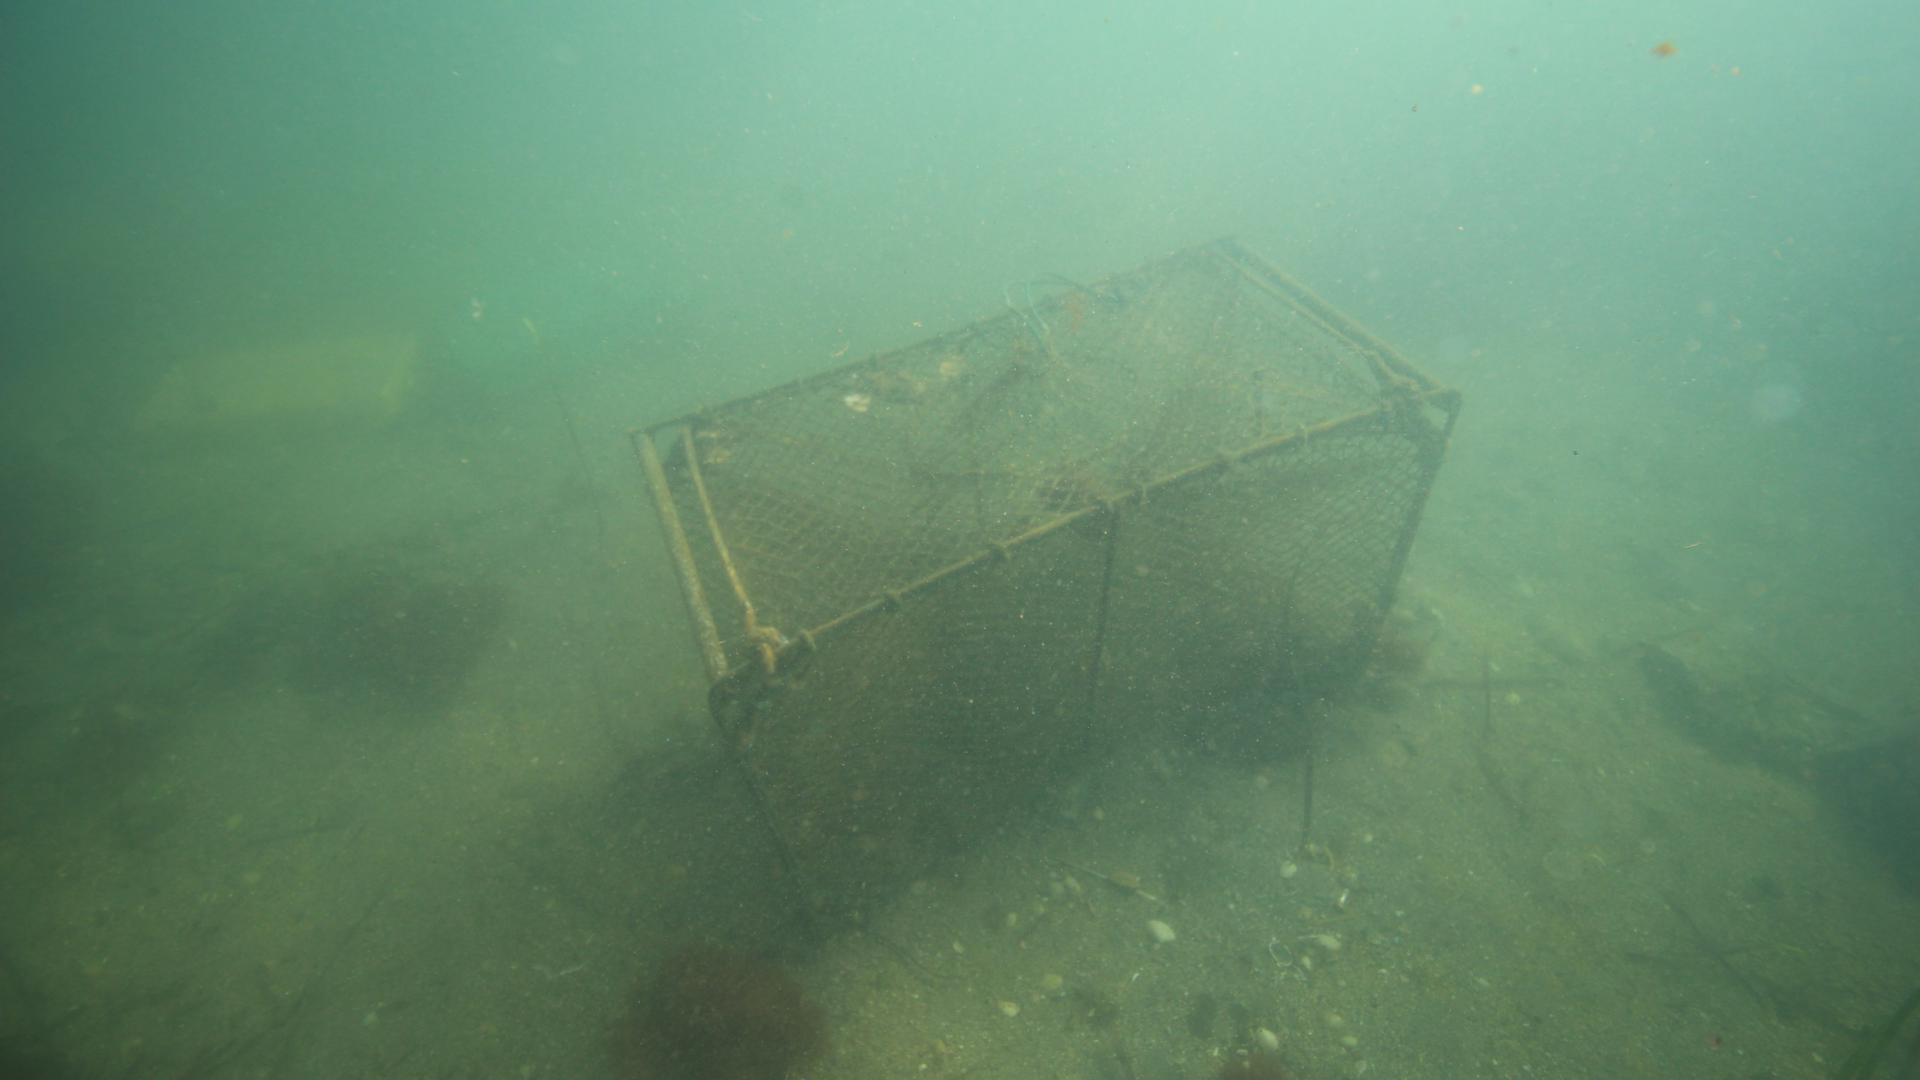rectangular fish trap: (622, 229, 1469, 949)
